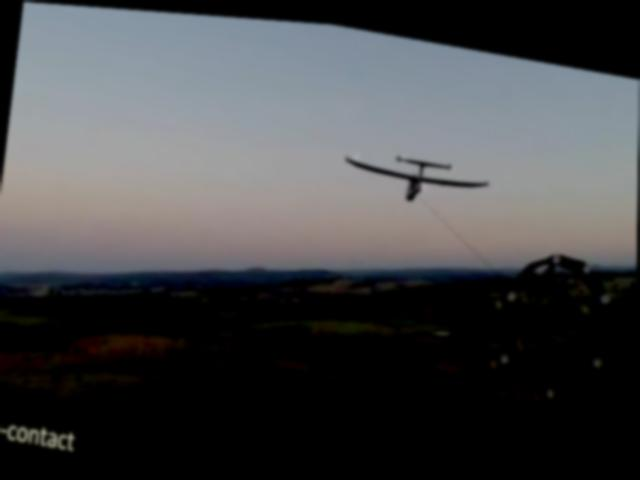uav: (340, 135, 496, 215)
